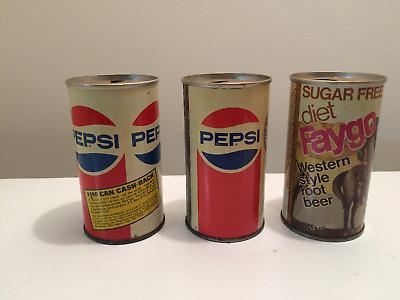can: (279, 69, 390, 244), (64, 71, 167, 245), (180, 73, 276, 245)
